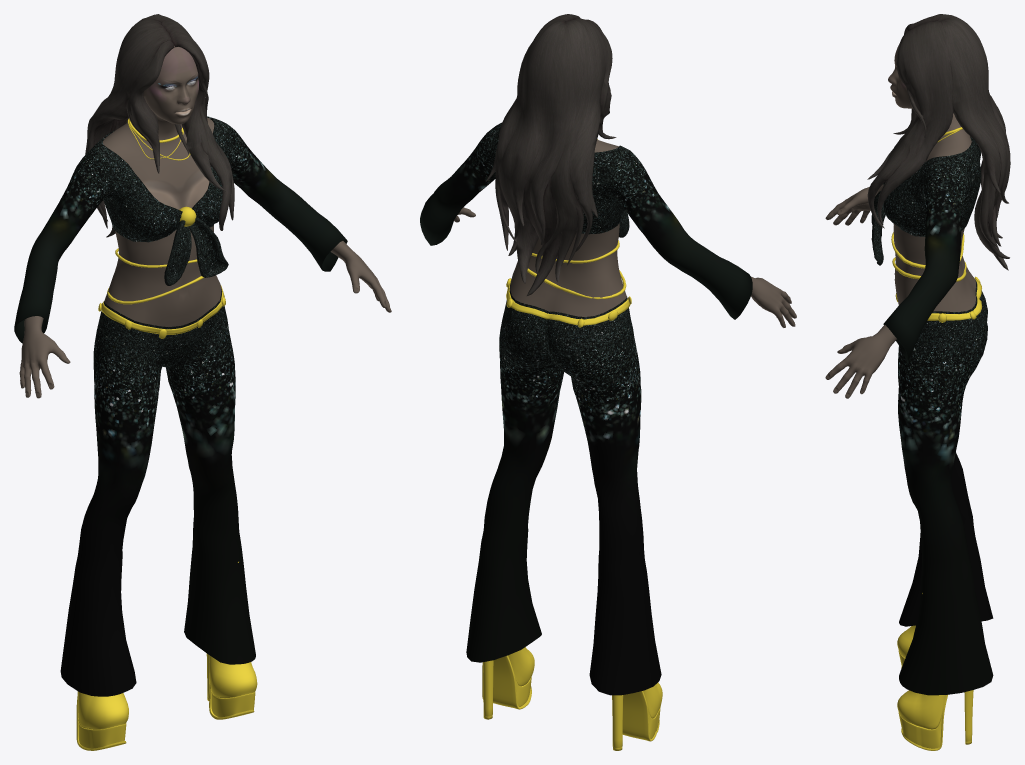
Rendered from Angel NOT RIGGED.fbx.
3 views of the same model, side by side, from view 1: azimuth 30°, elevation 25°; view 2: azimuth 150°, elevation 25°; view 3: azimuth 270°, elevation 25° (orthographic).
Visible parts, largest first — view 1: fifiMesh.001, fifiMesh, fifiMesh.003, F_MED_QuicheLorraineLime_May_LOD0.004, F_MED_QuicheLorraineLime_May_LOD0.007, Sphere.002, Sphere.001, fifiMesh.002; view 2: fifiMesh.001, F_MED_QuicheLorraineLime_May_LOD0.004, fifiMesh.003, fifiMesh, F_MED_QuicheLorraineLime_May_LOD0.007, fifiMesh.002; view 3: fifiMesh.001, F_MED_QuicheLorraineLime_May_LOD0.004, fifiMesh.003, fifiMesh, F_MED_QuicheLorraineLime_May_LOD0.007, Sphere.002, fifiMesh.002.
Boxes of the visible parts, bbox=[...] form: fifiMesh.001: bbox=[60, 289, 255, 696]; fifiMesh: bbox=[19, 46, 391, 398]; fifiMesh.003: bbox=[14, 116, 347, 343]; F_MED_QuicheLorraineLime_May_LOD0.004: bbox=[85, 14, 234, 237]; F_MED_QuicheLorraineLime_May_LOD0.007: bbox=[76, 561, 257, 750]; Sphere.002: bbox=[188, 217, 228, 277]; Sphere.001: bbox=[164, 220, 191, 285]; fifiMesh.002: bbox=[101, 285, 224, 334]; fifiMesh.001: bbox=[466, 283, 661, 695]; F_MED_QuicheLorraineLime_May_LOD0.004: bbox=[485, 14, 616, 296]; fifiMesh.003: bbox=[420, 122, 752, 319]; fifiMesh: bbox=[454, 139, 796, 327]; F_MED_QuicheLorraineLime_May_LOD0.007: bbox=[482, 647, 662, 750]; fifiMesh.002: bbox=[506, 282, 629, 325]; fifiMesh.001: bbox=[898, 280, 993, 695]; F_MED_QuicheLorraineLime_May_LOD0.004: bbox=[867, 14, 1010, 270]; fifiMesh.003: bbox=[883, 136, 981, 362]; fifiMesh: bbox=[825, 44, 975, 398]; F_MED_QuicheLorraineLime_May_LOD0.007: bbox=[897, 593, 973, 750]; Sphere.002: bbox=[871, 203, 885, 265]; fifiMesh.002: bbox=[927, 278, 981, 320].
Size of what is drawn, in the model's own units: 187 by 346 by 83.74.
